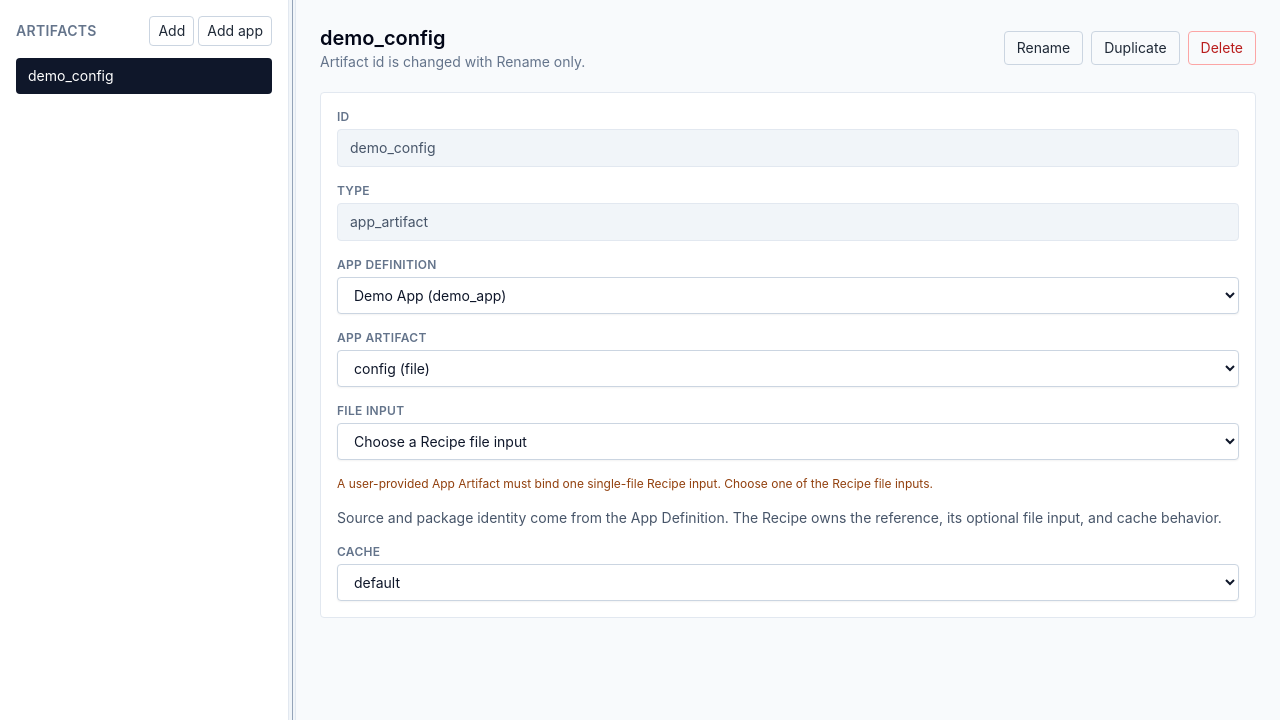
Test case: ArtifactsEditor catalog-backed App Artifacts › edits one App Artifact reference field at a time without rewriting dependent values
Select "APK file (apk_file)" in the dropdown labelled "File input" at (788, 442), box [337, 423, 1239, 460]
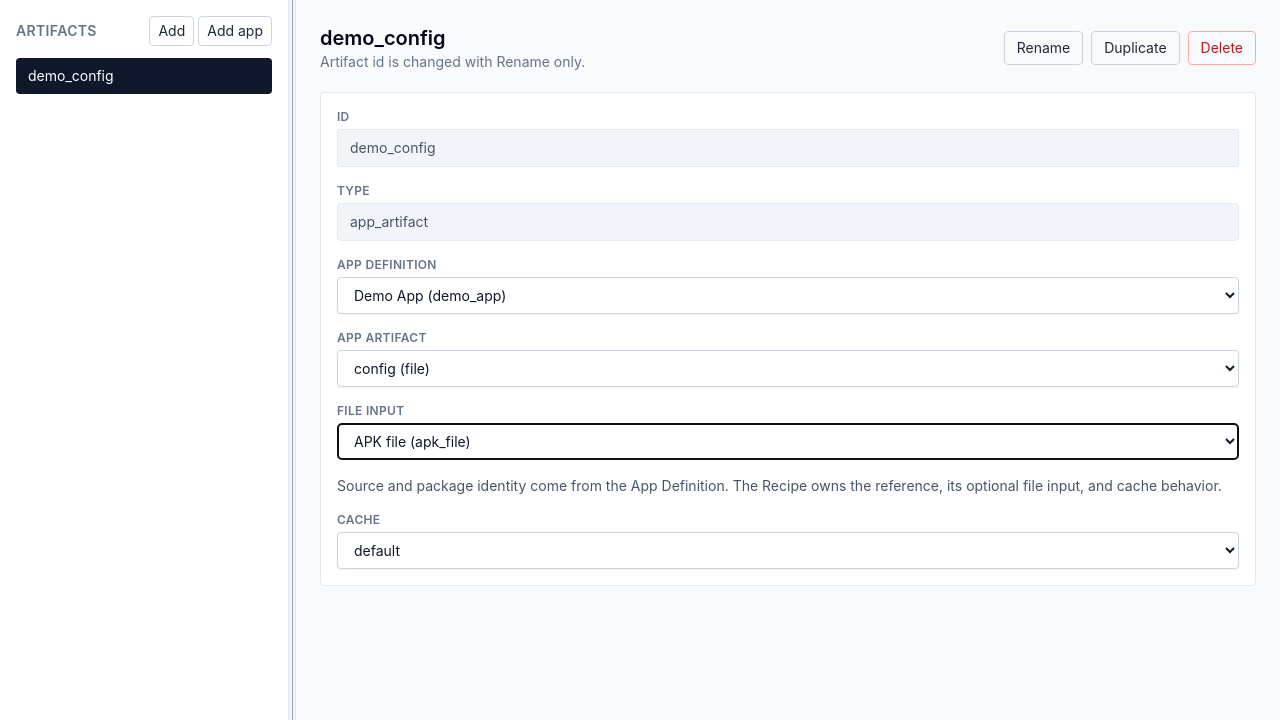
Select "Second App (second_app)" in the dropdown labelled "App Definition" at (788, 296), box [337, 277, 1239, 314]
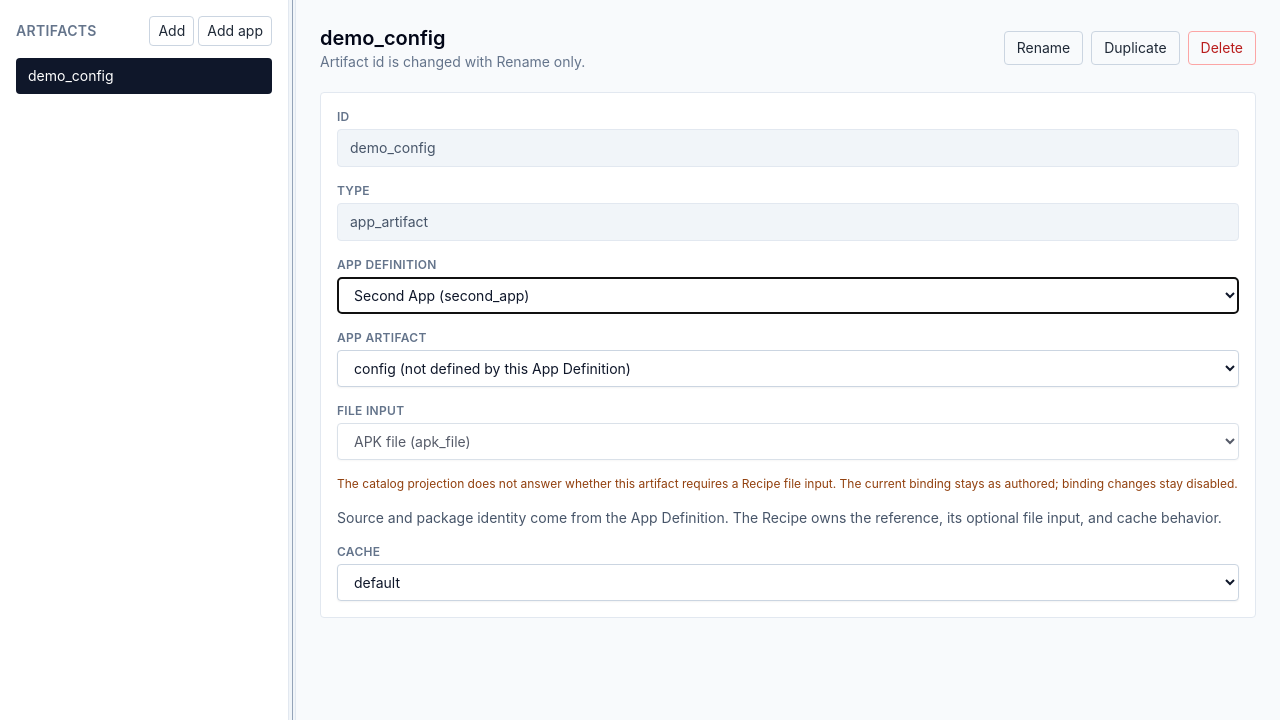
expect the dropdown labelled "App artifact" shows "config (not defined by this App Definition)": met, box [337, 350, 1239, 387]
